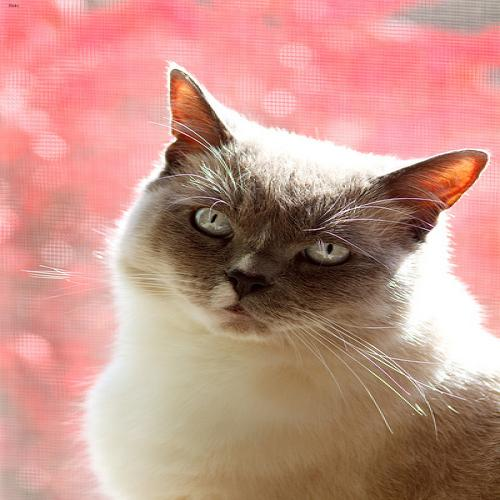ragdoll: (134, 58, 488, 348)
